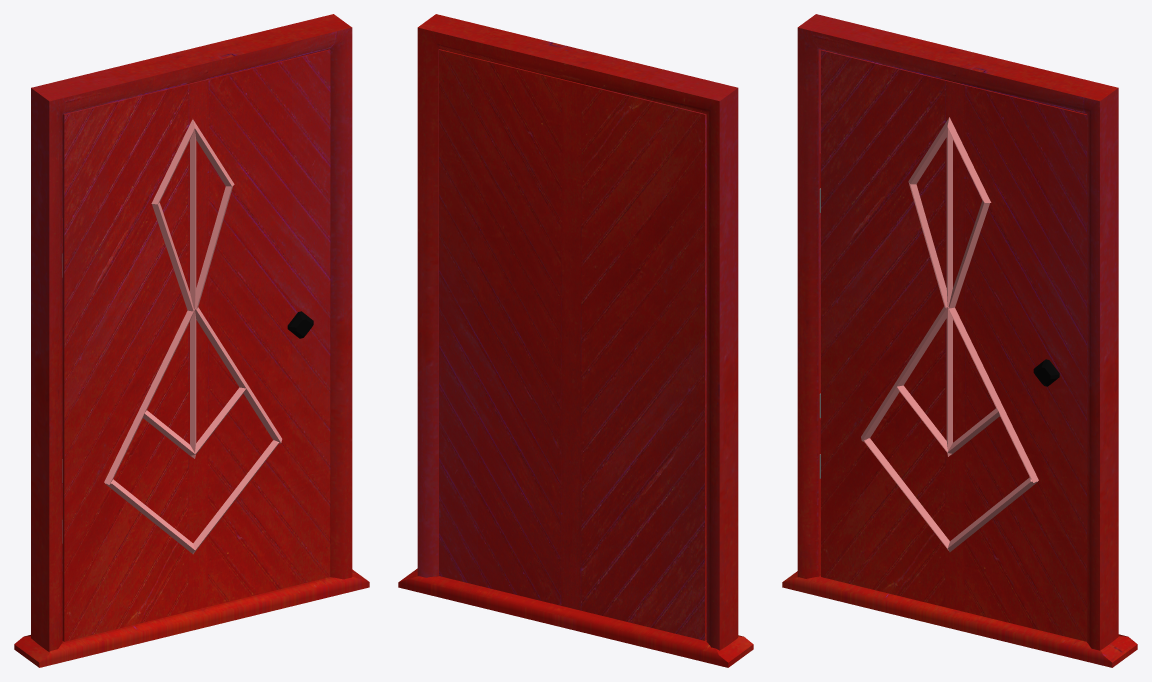
File: portal.glb
The picture shows the model from 3 angles, left to right: view 1: azimuth 30°, elevation 25°; view 2: azimuth 150°, elevation 25°; view 3: azimuth 330°, elevation 25°; orthographic projection.
Visible parts, largest first — view 1: group10 Door11 door1, Door11 group25 polySurface104, Door11 group25 polySurface105, group10 Door11 pCube12 group8, group10 Door11 group8 pCube15 group7, group10 Door11 group8 pCube15 group6, group10 Door11 group8 group6 pCube17, group10 Door11 group8 group7 pCube17, pCube13 group9 group10 Door11, group10 Door11 group8 pCube18 group4, group10 Door11 group8 pCube14, group10 Door11 group8 group4 pCube19 (+2 smaller); view 2: group10 Door11 door1, Door11 group25 polySurface104, Door11 group25 polySurface105; view 3: group10 Door11 door1, Door11 group25 polySurface104, Door11 group25 polySurface105, group10 Door11 pCube12 group8, group10 Door11 group8 pCube15 group6, group10 Door11 group8 pCube15 group7, group10 Door11 group8 group6 pCube17, group10 Door11 group8 group7 pCube17, group10 Door11 group8 pCube18 group4, pCube13 group9 group10 Door11, group10 Door11 group8 group4 pCube19, group10 Door11 group8 pCube14 (+2 smaller).
Boxes of the visible parts, x1,y1,x2,y2 form: group10 Door11 door1: [62, 49, 330, 641]; Door11 group25 polySurface104: [31, 14, 352, 651]; Door11 group25 polySurface105: [14, 569, 369, 667]; group10 Door11 pCube12 group8: [190, 129, 196, 458]; group10 Door11 group8 pCube15 group7: [104, 309, 194, 484]; group10 Door11 group8 pCube15 group6: [195, 307, 282, 443]; group10 Door11 group8 group6 pCube17: [193, 440, 278, 554]; group10 Door11 group8 group7 pCube17: [105, 479, 195, 553]; pCube13 group9 group10 Door11: [152, 202, 193, 311]; group10 Door11 group8 pCube18 group4: [195, 186, 232, 309]; group10 Door11 group8 pCube14: [151, 119, 194, 204]; group10 Door11 group8 group4 pCube19: [193, 119, 234, 186]; group10 Door11 door1: [439, 49, 706, 640]; Door11 group25 polySurface104: [417, 14, 738, 650]; Door11 group25 polySurface105: [398, 568, 753, 667]; group10 Door11 door1: [821, 50, 1086, 641]; Door11 group25 polySurface104: [797, 14, 1118, 650]; Door11 group25 polySurface105: [782, 571, 1137, 667]; group10 Door11 pCube12 group8: [946, 128, 952, 456]; group10 Door11 group8 pCube15 group6: [948, 307, 1038, 482]; group10 Door11 group8 pCube15 group7: [861, 306, 947, 441]; group10 Door11 group8 group6 pCube17: [948, 477, 1037, 552]; group10 Door11 group8 group7 pCube17: [864, 438, 949, 550]; group10 Door11 group8 pCube18 group4: [948, 200, 989, 308]; pCube13 group9 group10 Door11: [909, 183, 947, 308]; group10 Door11 group8 group4 pCube19: [947, 117, 991, 202]; group10 Door11 group8 pCube14: [908, 117, 949, 184].
Size of the model in its own units: 5.33 by 8.65 by 0.7588.
4 materials, 1 textured.
